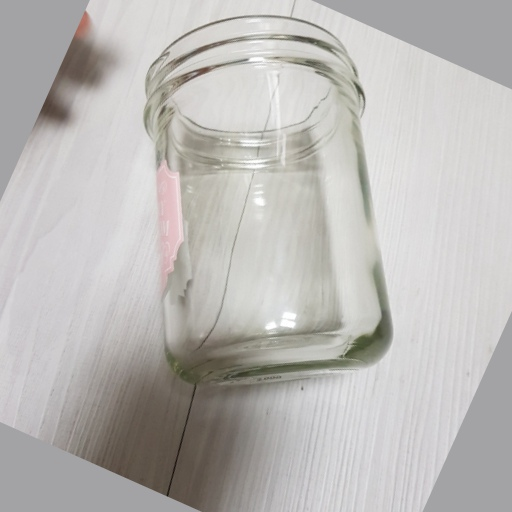Glass_5: (139, 12, 396, 386)
